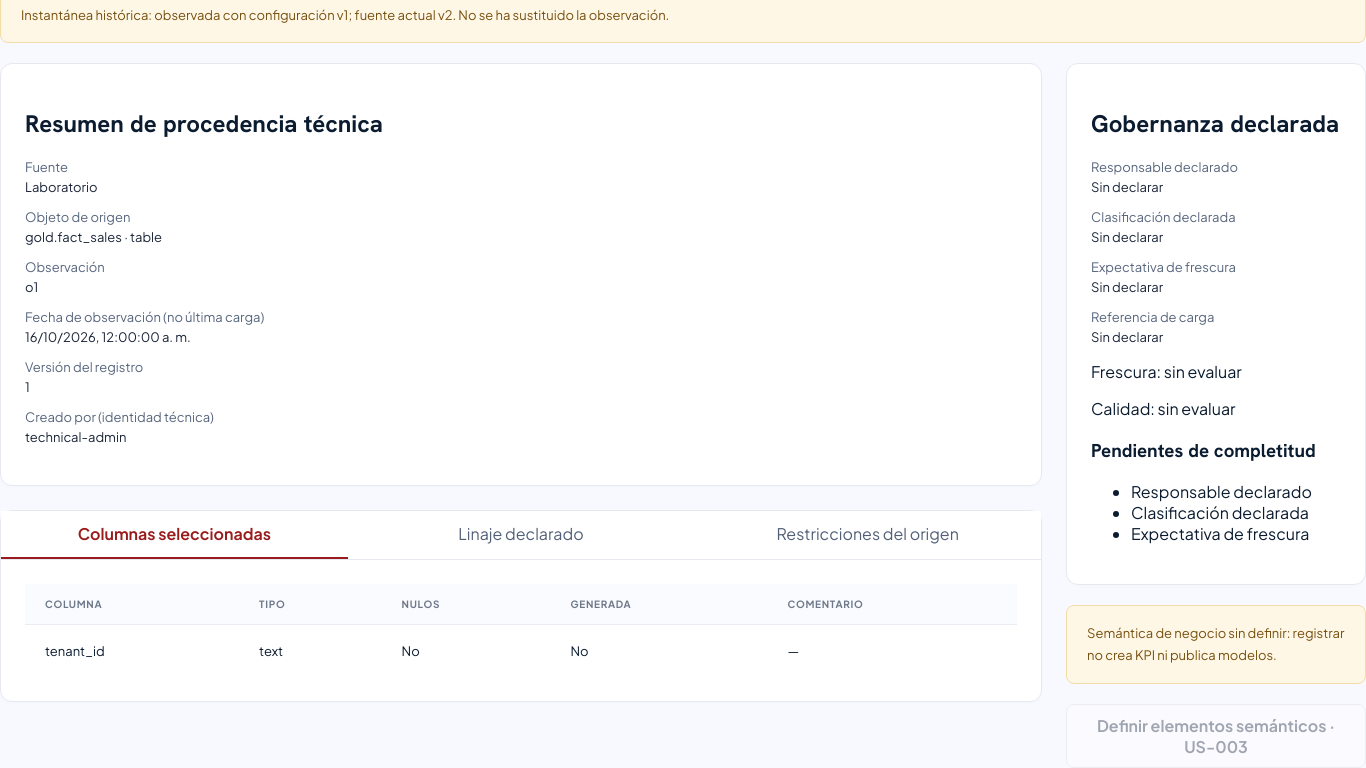
Test: shows historical source, pending governance and constraints without claiming dataset uniqueness
This screenshot has width=1366, height=768.
(page scrolled)
Expected: the text "Instantánea histórica" is shown, 21,7 -> 344,23
Expected: the text "Frescura: sin evaluar" is shown, 1091,361 -> 1242,382
Click the tab "Restricciones del origen": coordinates (868, 535) 694,511 -> 1041,559
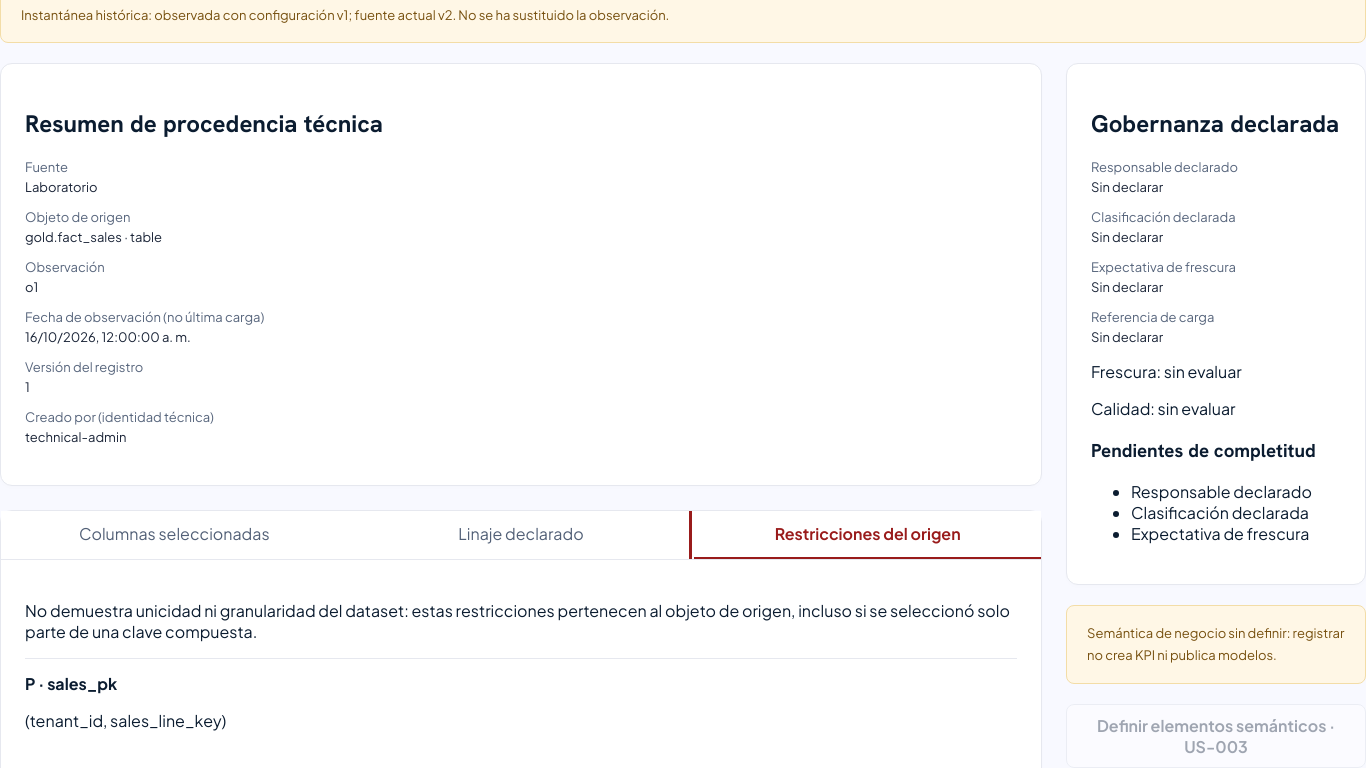
Now the text "(tenant_id, sales_line_key)" is shown, box 25,710 -> 226,731
Now the text "No demuestra unicidad" is shown, box 25,600 -> 1010,642
